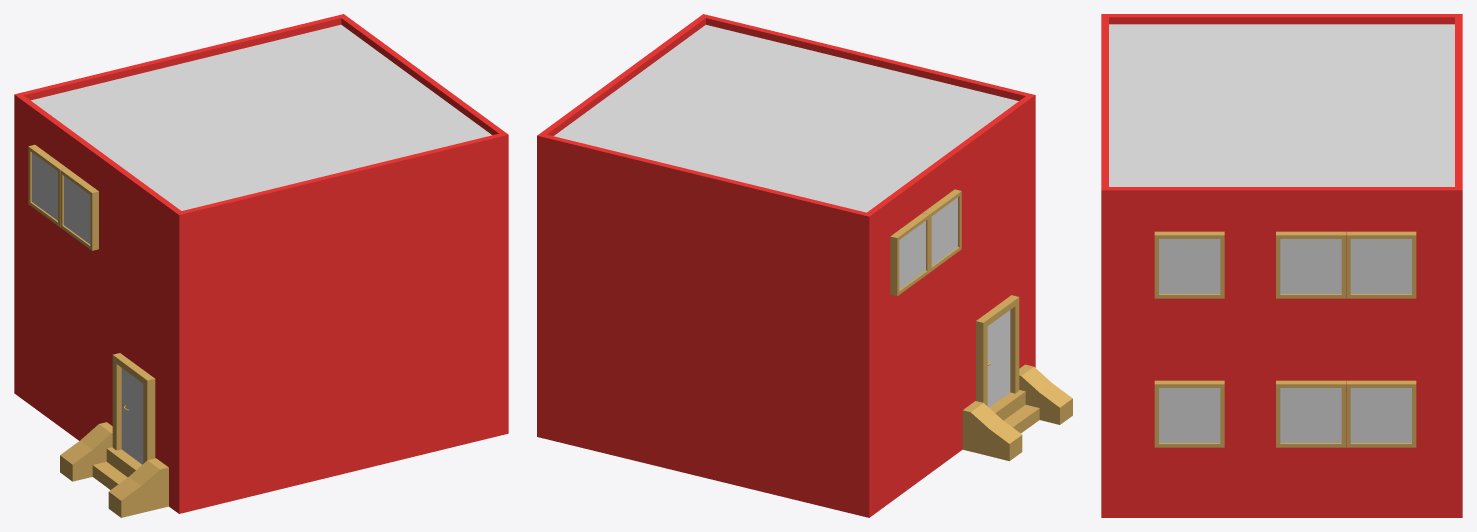
File: Complete_Building_2.fbx
3 views of the same model, side by side, from view 1: azimuth 30°, elevation 25°; view 2: azimuth 150°, elevation 25°; view 3: azimuth 270°, elevation 25° (orthographic). The views are drawn at different scales.
Parts seen in each view (by area): view 1: Building_2; view 2: Building_2; view 3: Building_2.
Boxes of the visible parts, left/top/right/bottom form: Building_2: left=14, top=14, right=508, bottom=517; Building_2: left=537, top=14, right=1072, bottom=517; Building_2: left=1101, top=14, right=1462, bottom=517.
Size of the model in its own units: 8.39 by 6.24 by 6.24.
